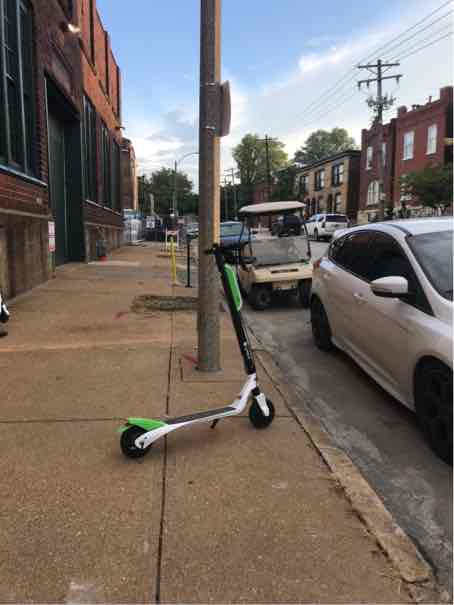scooter: (110, 232, 278, 464)
